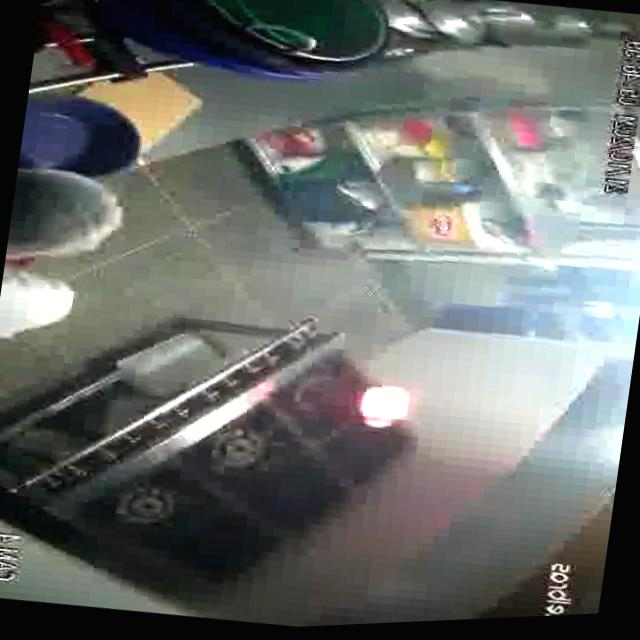Fire: (357, 376, 415, 435)
